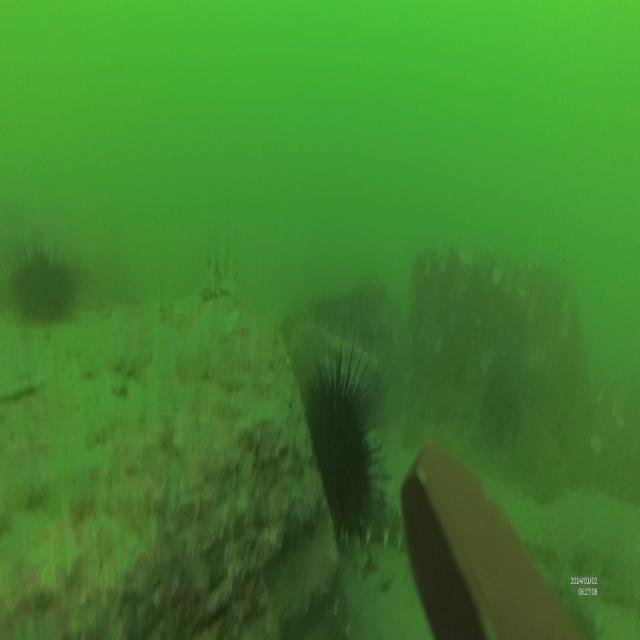echinus: (306, 346, 376, 542), (11, 236, 75, 328)
holothurian: (365, 491, 417, 559), (200, 260, 237, 308)
